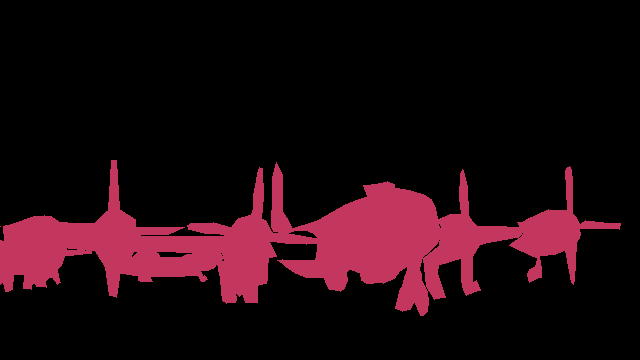Airplane: (271, 162, 442, 316), (130, 167, 317, 304), (3, 160, 185, 297), (423, 169, 524, 299), (509, 166, 620, 284), (0, 215, 91, 292), (120, 250, 224, 282)
